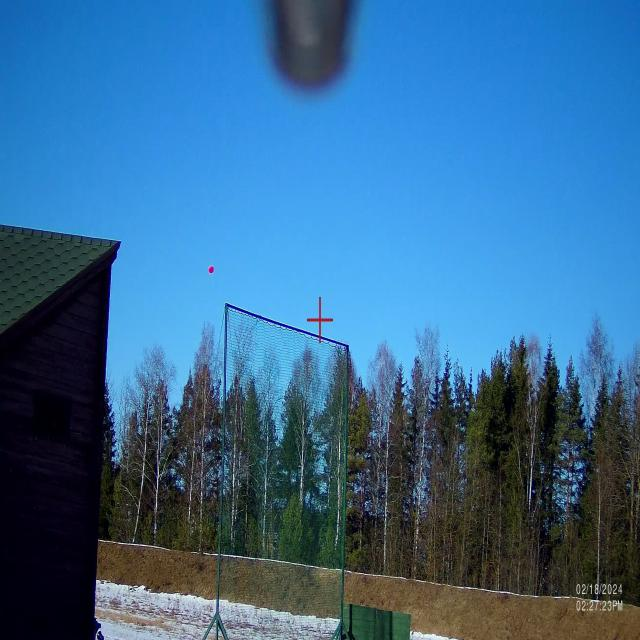entire: (206, 259, 217, 281)
